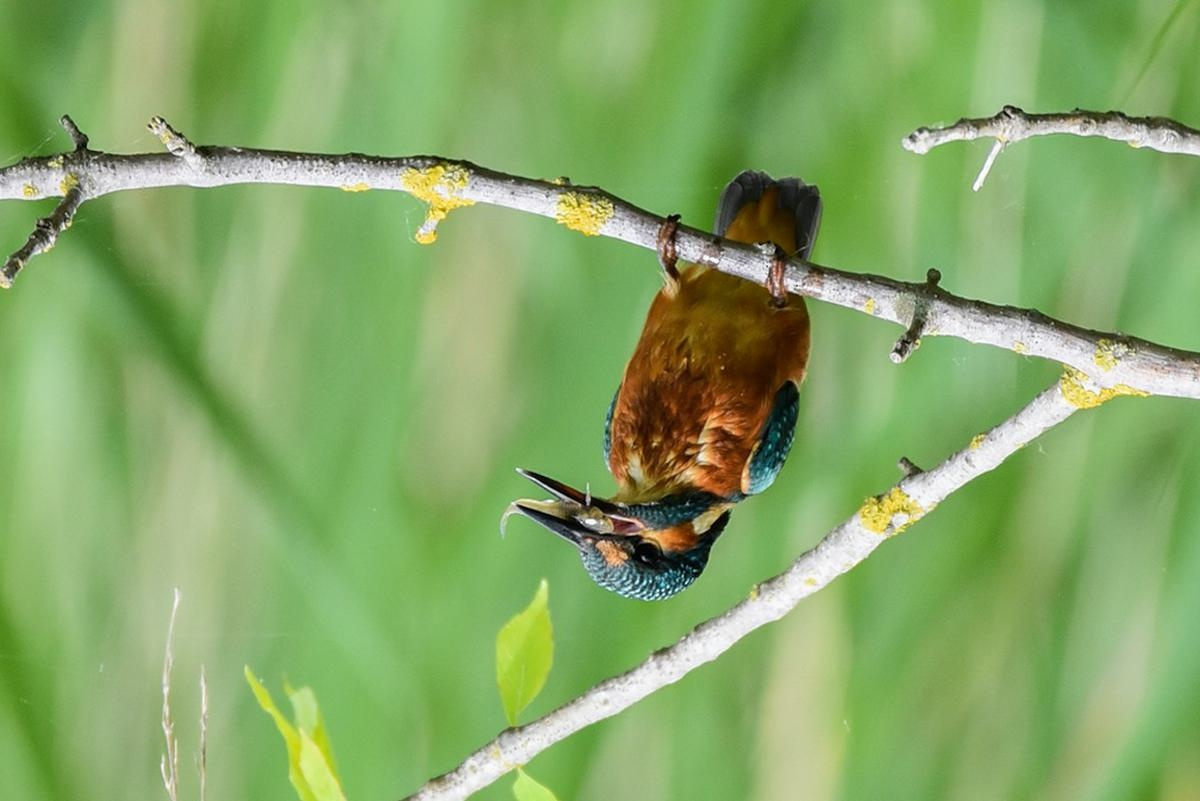kingfisher: (510, 177, 838, 611)
